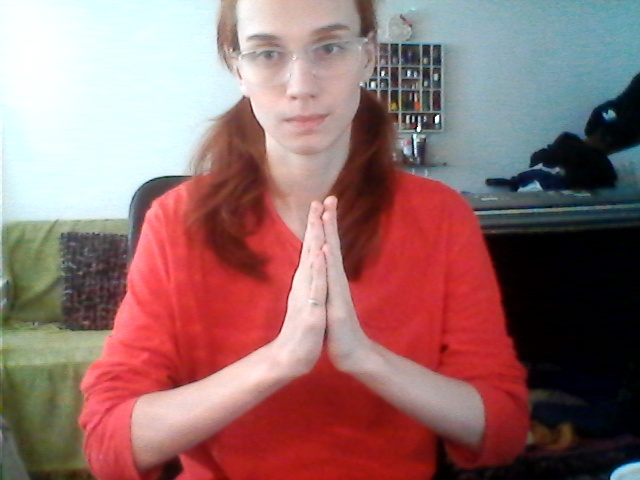prosim: (243, 193, 408, 416)
